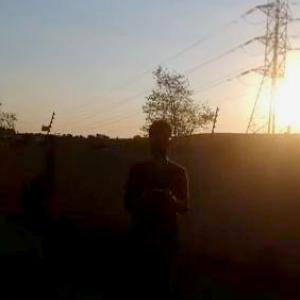follow: (117, 115, 193, 299)
